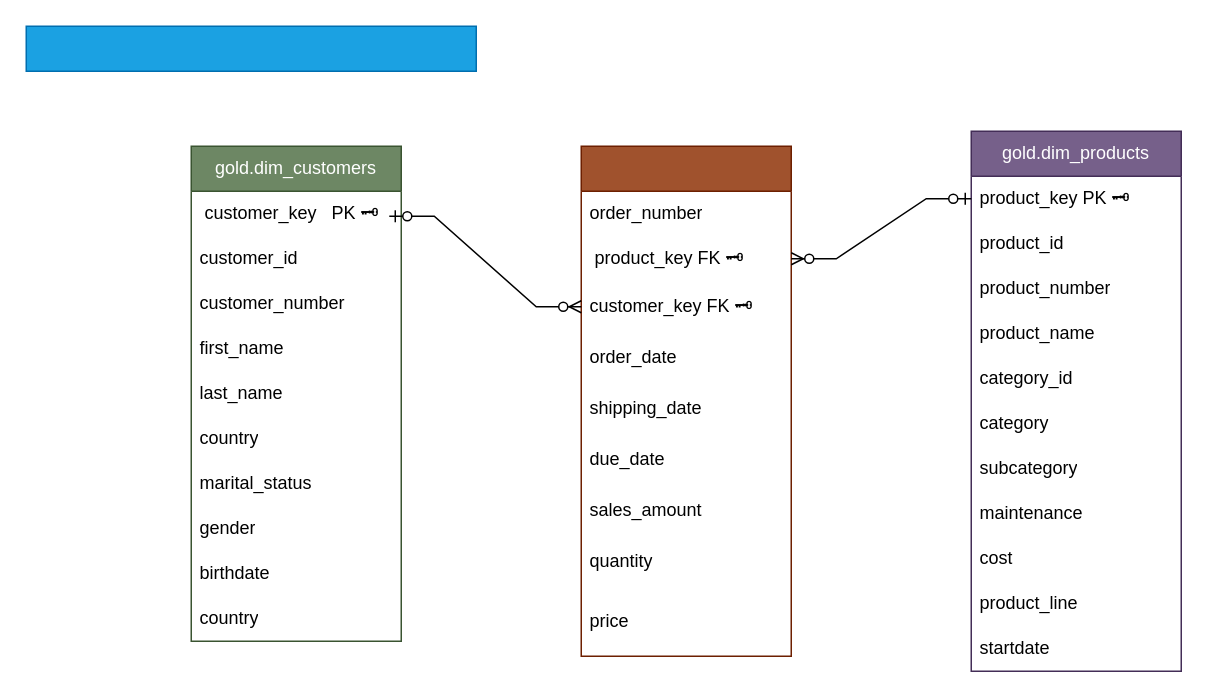
Image size: 1208x698. Some labels were removed from this diagram. The shapes that lost their labels are listed below. From the top down, each one's box as (x1, y1, x2, y2) in pixels, then its label:
(25, 25, 476, 71): SALES DATA MART(star schema)
(580, 145, 791, 656): gold.fact_sales
